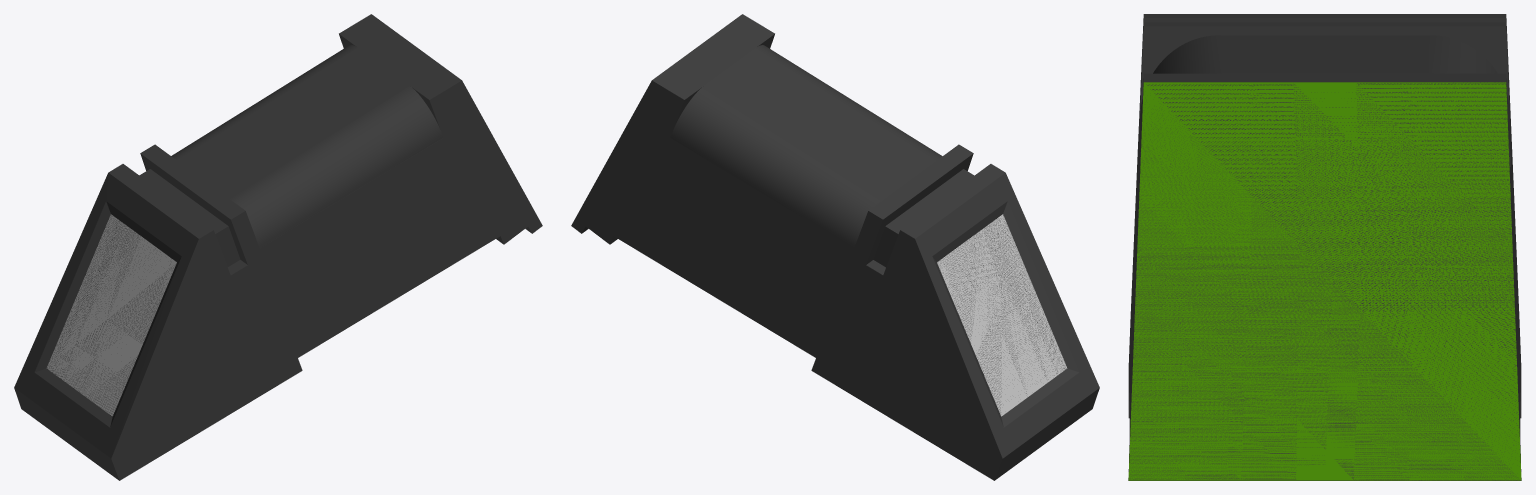
The model's file is sensor.dae.
The picture shows the model from 3 angles, left to right: view 1: azimuth 30°, elevation 25°; view 2: azimuth 150°, elevation 25°; view 3: azimuth 270°, elevation 25°; orthographic projection. The views are drawn at different scales.
Parts seen in each view (by area): view 1: group_1 (×2), group_2, group_3; view 2: group_1 (×2), group_2, group_3; view 3: group_1 (×2), group_2.
Boxes of the visible parts, bbox=[...] form: group_1 (×2): bbox=[14, 14, 542, 480]; group_2: bbox=[171, 45, 443, 247]; group_3: bbox=[139, 169, 240, 266]; group_1 (×2): bbox=[571, 14, 1099, 480]; group_2: bbox=[670, 45, 942, 248]; group_3: bbox=[873, 169, 974, 267]; group_1 (×2): bbox=[1128, 14, 1521, 480]; group_2: bbox=[1140, 35, 1510, 166].
Size of the model in its own units: 2.07 by 0.8194 by 1.44.
